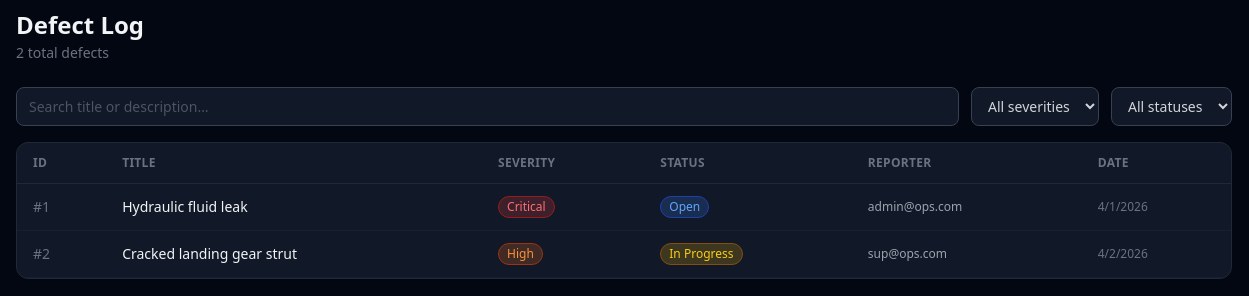
Test case: DefectLog — filtering › shows a Clear button when a filter is active and clears filters on click
Expected: the text "Hydraulic fluid leak" is shown, [106,184,482,230]
In the field with placeholder "Search title or description…": (488, 106) [16,87,959,126], type "hydraulic"
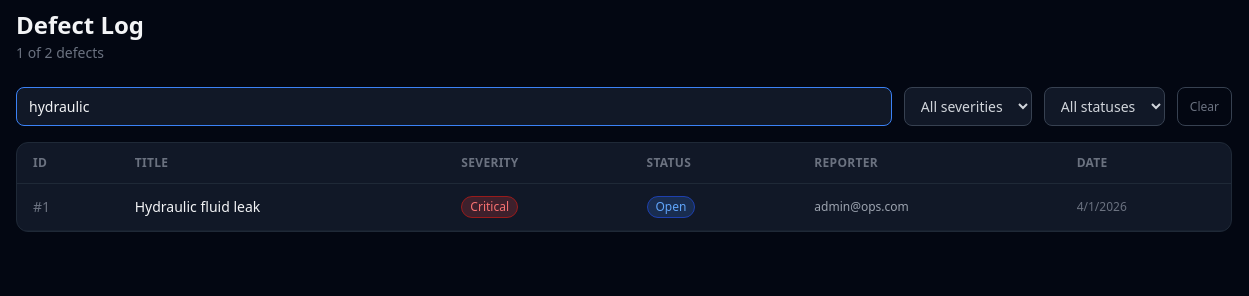
Now the button "Clear" is shown
Click the button "Clear": (1204, 106) [1177,87,1232,126]
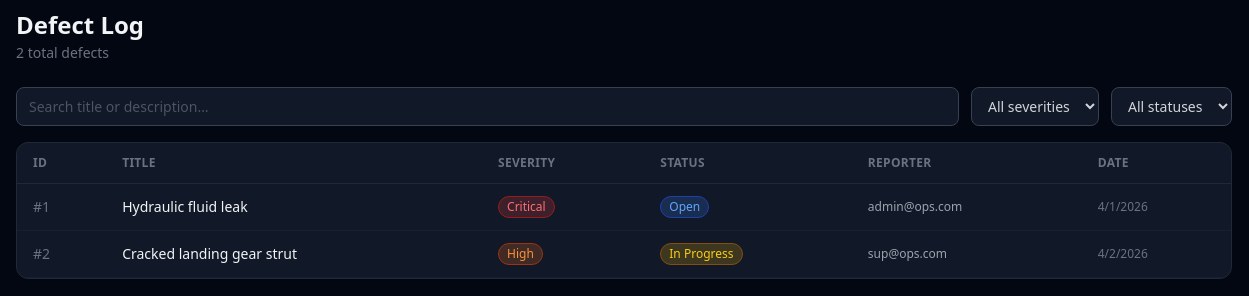
Expected: the text "Hydraulic fluid leak" is shown, [106,184,482,230]
Now the text "Cracked landing gear strut" is shown, box [106,230,482,278]
Now the button "Clear" is gone
